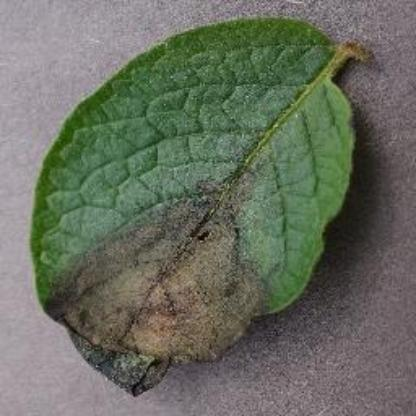Late-Blight: (26, 11, 372, 395)
